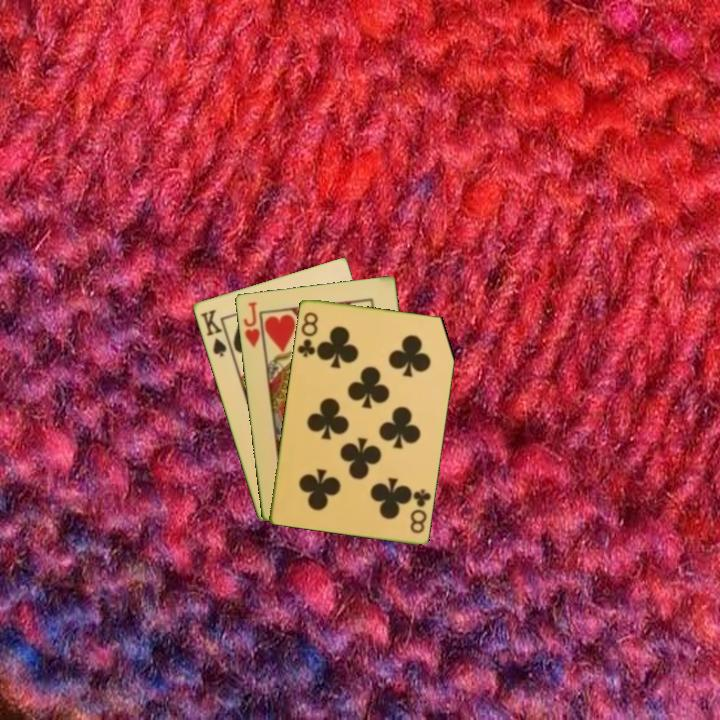8c: (294, 308, 321, 360), (406, 485, 433, 536)
Jh: (240, 298, 263, 350)
Ks: (196, 306, 233, 360)
